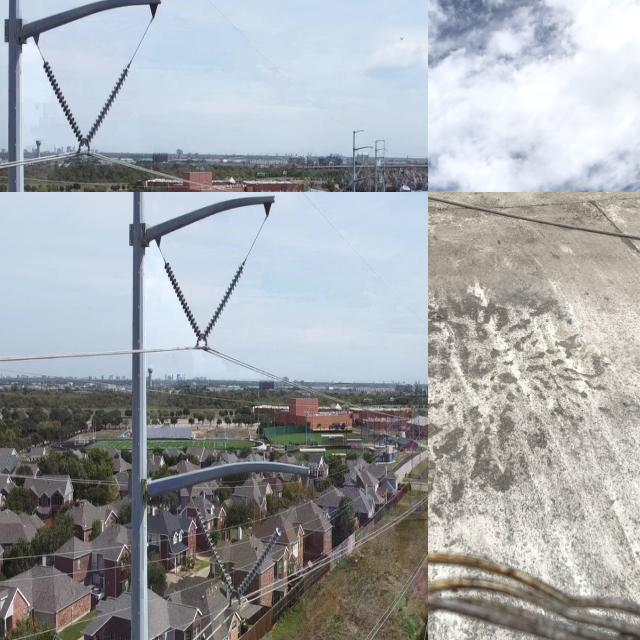杆塔: (0, 0, 202, 192)
正常绝缘子: (194, 246, 254, 358), (188, 496, 243, 609), (229, 519, 288, 612), (157, 248, 209, 350), (79, 57, 133, 155), (42, 57, 87, 148)
电缆破损: (428, 526, 640, 640)
